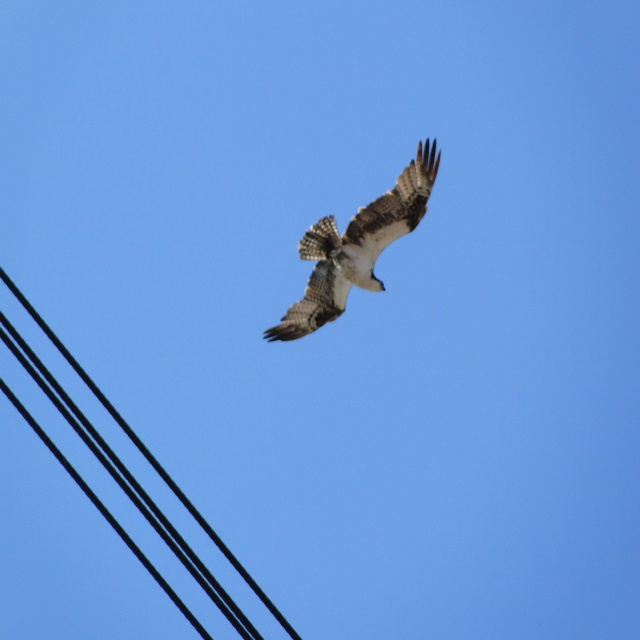Eagle: (257, 138, 444, 347)
